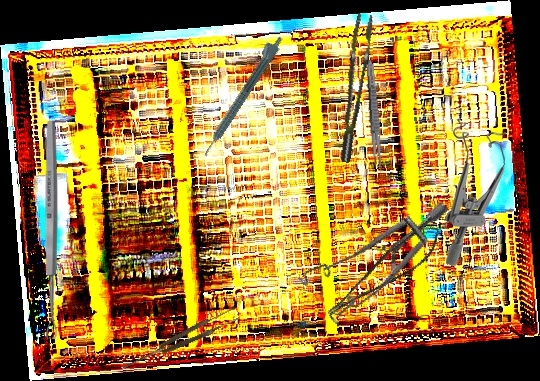Dressing Forceps: (364, 59, 385, 173)
Handpiece: (195, 31, 286, 159)
Micro Scissor: (313, 218, 451, 320)
Speculum: (287, 161, 449, 347), (443, 116, 509, 268)
Surgical Spoon: (44, 121, 58, 339)
Tissue Forceps: (320, 11, 388, 164), (117, 305, 243, 375)
